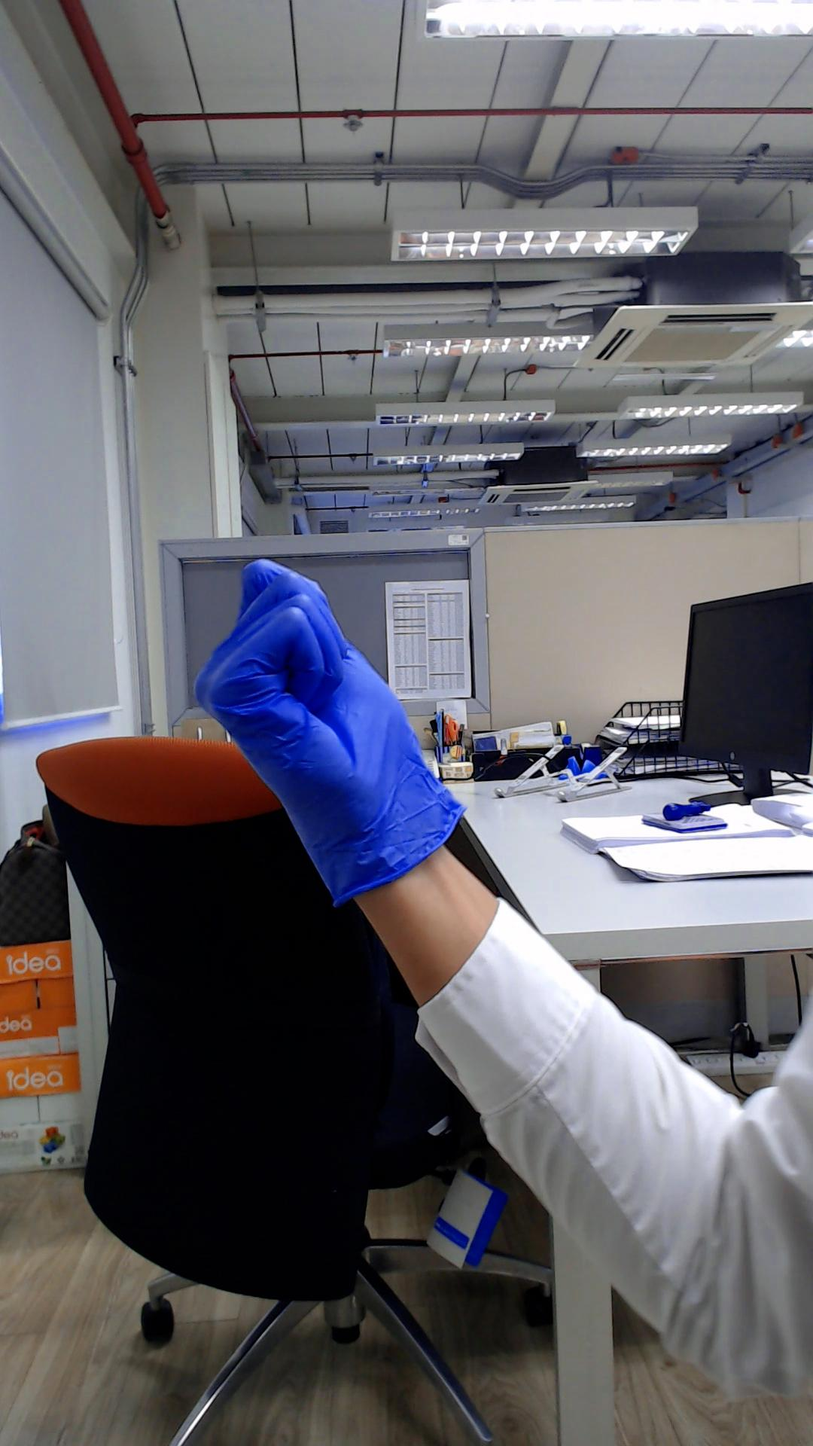gloves: (199, 520, 424, 808)
